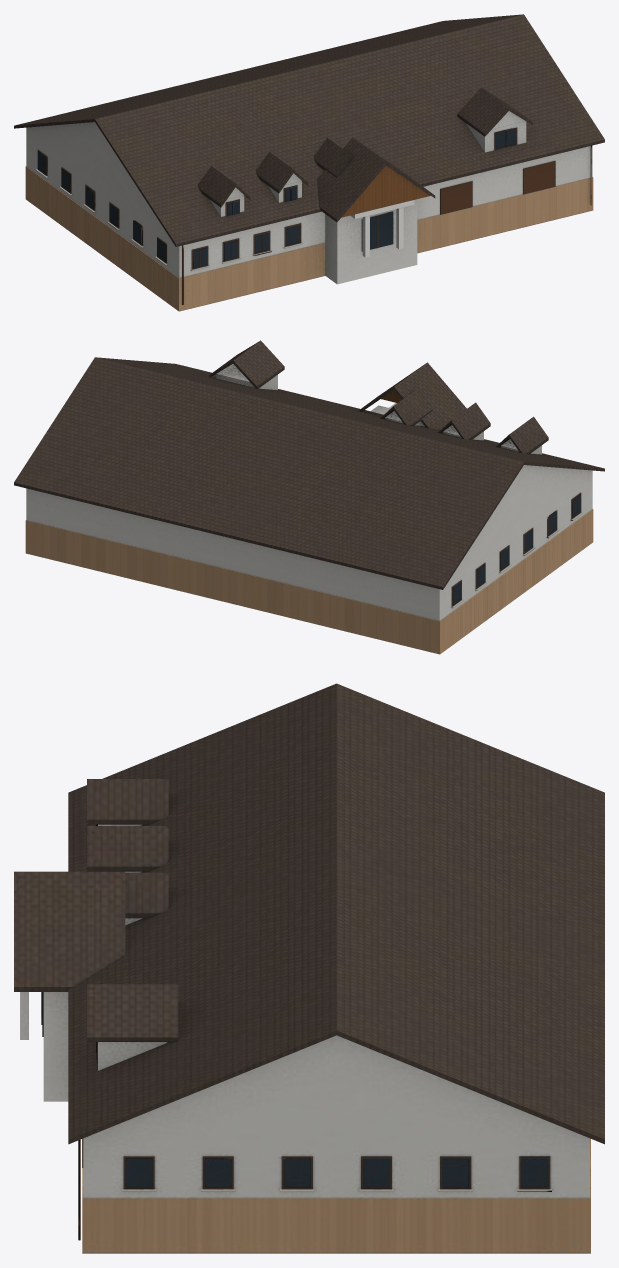
File: delikatesy.glb
3 renders of one model, top to bottom at view 1: azimuth 30°, elevation 25°; view 2: azimuth 150°, elevation 25°; view 3: azimuth 270°, elevation 25°, orthographic. The views are drawn at different scales.
Parts seen in each view (by area): view 1: delikatesy; view 2: delikatesy; view 3: delikatesy.
Part boxes in pixels (box(x1,y1,x2,y2)): delikatesy: box(14, 14, 604, 311); delikatesy: box(14, 340, 604, 654); delikatesy: box(14, 683, 604, 1253).
Size of the model in its own units: 33.2 by 10.22 by 23.9.
Materials: 1 (1 with a texture image).
